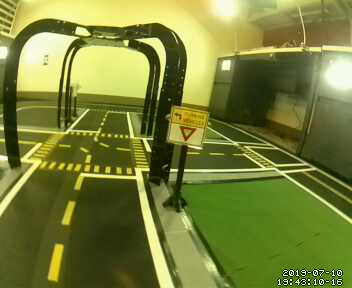Turn Yield: (165, 105, 207, 149)
